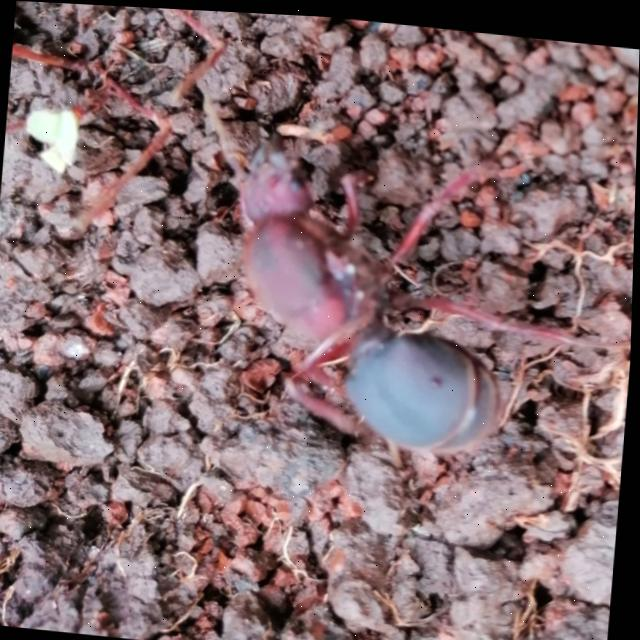Alive-Female-Dealate: (220, 125, 637, 467)
